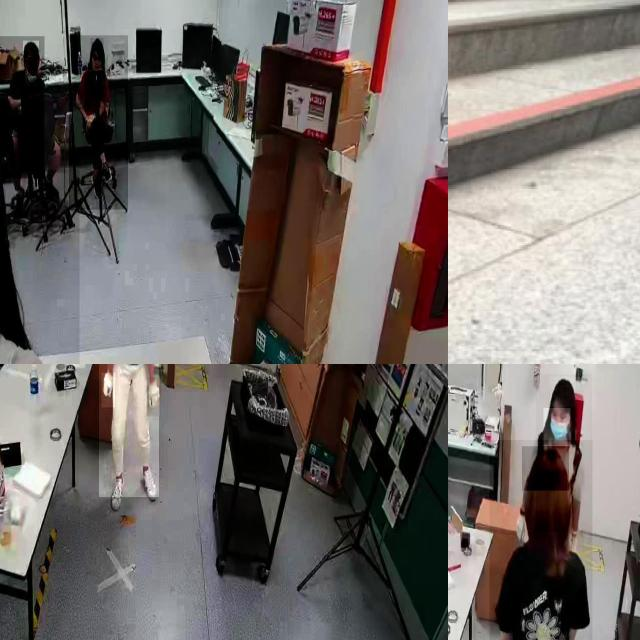face_mask: (544, 408, 570, 446)
face_nomask: (25, 57, 37, 76), (90, 53, 102, 71)
hand_glove: (147, 377, 161, 417), (102, 373, 115, 408)
hand_noglove: (84, 114, 94, 132), (84, 112, 94, 121)
head_nohelmet: (522, 446, 570, 492), (550, 377, 576, 408), (23, 41, 39, 54), (90, 38, 104, 50)
person: (489, 440, 592, 640), (0, 169, 80, 364), (69, 36, 129, 210), (536, 374, 592, 532), (98, 364, 159, 498), (0, 36, 45, 178)
shoes: (137, 462, 162, 506), (106, 470, 125, 510), (99, 156, 115, 189), (90, 168, 104, 200)
